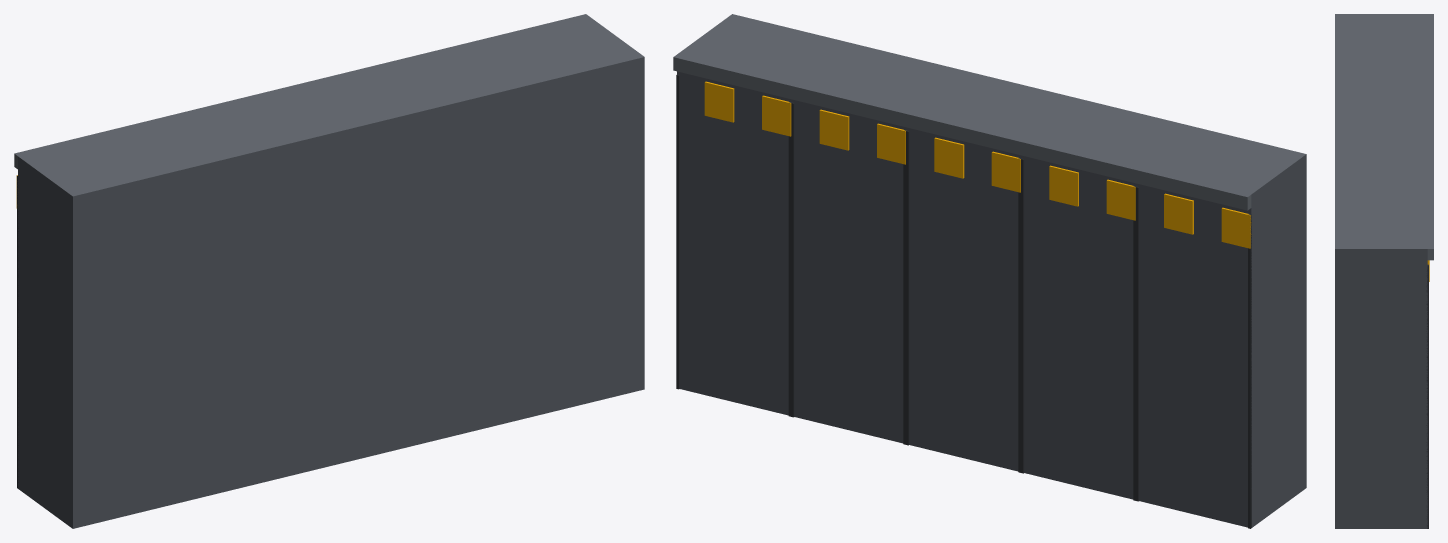
The picture shows the model from 3 angles, left to right: view 1: azimuth 30°, elevation 25°; view 2: azimuth 150°, elevation 25°; view 3: azimuth 270°, elevation 25°; orthographic projection. The views are drawn at different scales.
Visible parts, largest first — view 1: a1w; view 2: a1w; view 3: a1w.
Part boxes in pixels (box(x1,y1,x2,y2)): a1w: box(14, 14, 644, 528); a1w: box(673, 14, 1306, 528); a1w: box(1335, 14, 1433, 528).
Size of the model in its own units: 9 by 5 by 1.6.
